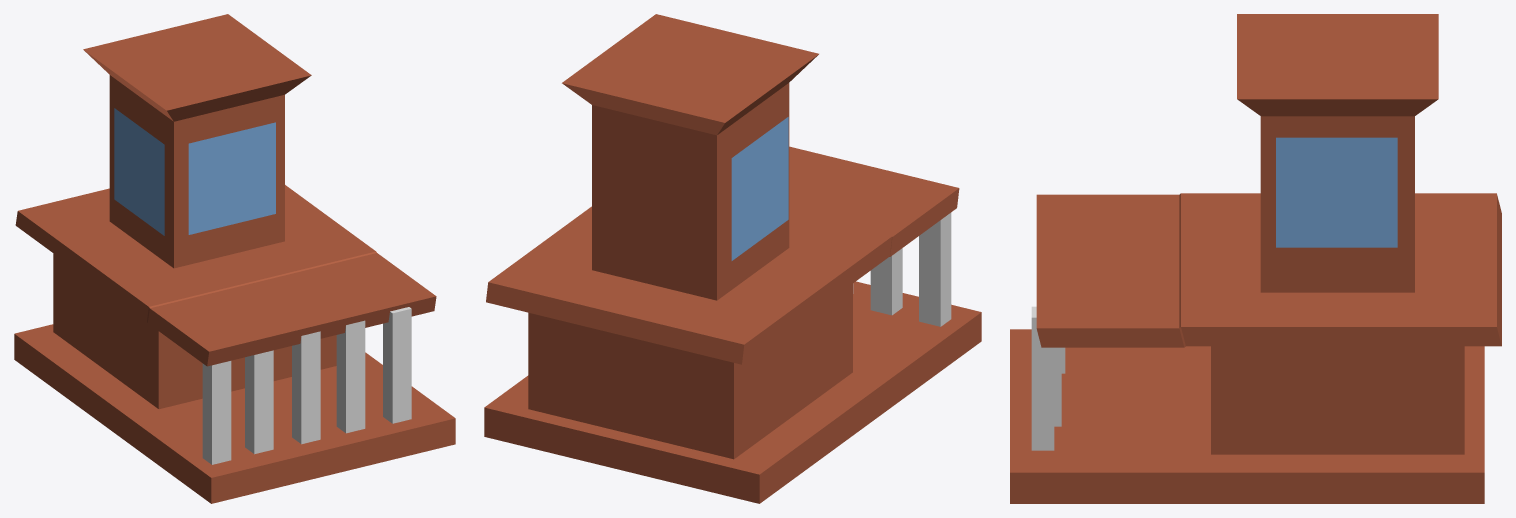
File: BUILD 3 INFRAS.fbx
3 renders of one model, left to right at view 1: azimuth 30°, elevation 25°; view 2: azimuth 150°, elevation 25°; view 3: azimuth 270°, elevation 25°, orthographic. The views are drawn at different scales.
Visible parts, largest first — view 1: BUILD BROWN; view 2: BUILD BROWN; view 3: BUILD BROWN.
Boxes of the visible parts, x1,y1,x2,y2 form: BUILD BROWN: (14, 14, 455, 503); BUILD BROWN: (484, 14, 981, 503); BUILD BROWN: (1010, 14, 1501, 503).
Bounding box in the file's own units: 1521 × 1857 × 2202.
